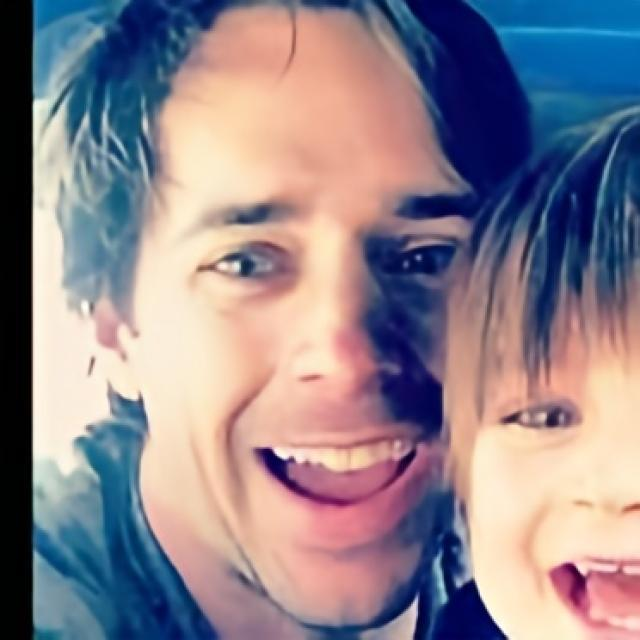surprise: (138, 0, 478, 631), (467, 201, 640, 640)
